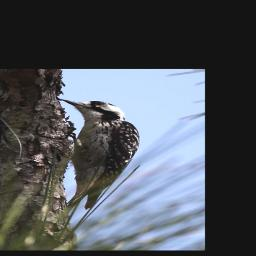Woodpecker: (52, 93, 148, 215)
